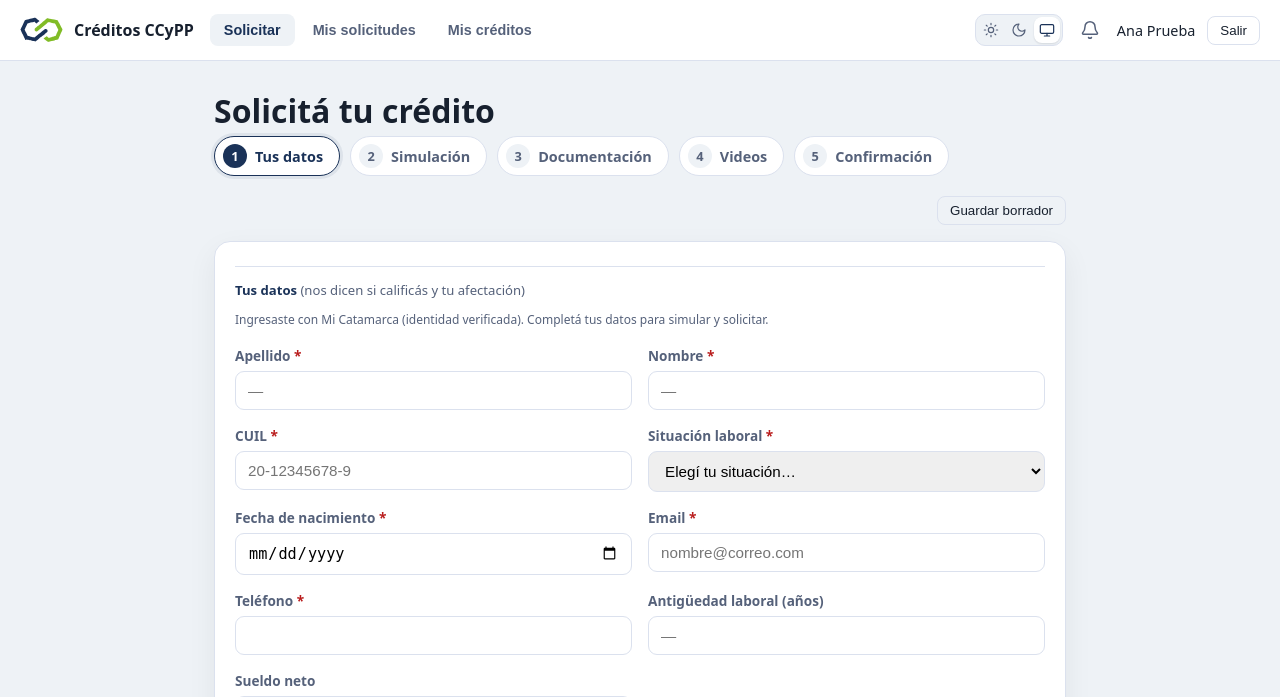
Test: paso 1 · tus datos › el CUIL descarta lo que no sean dígitos y se muestra con guiones
Check: the heading "Solicitá tu crédito" is shown, box [214, 89, 495, 132]
Type "20.30123456.3" into the field labelled "CUIL *" at (434, 470), box [235, 451, 632, 490]
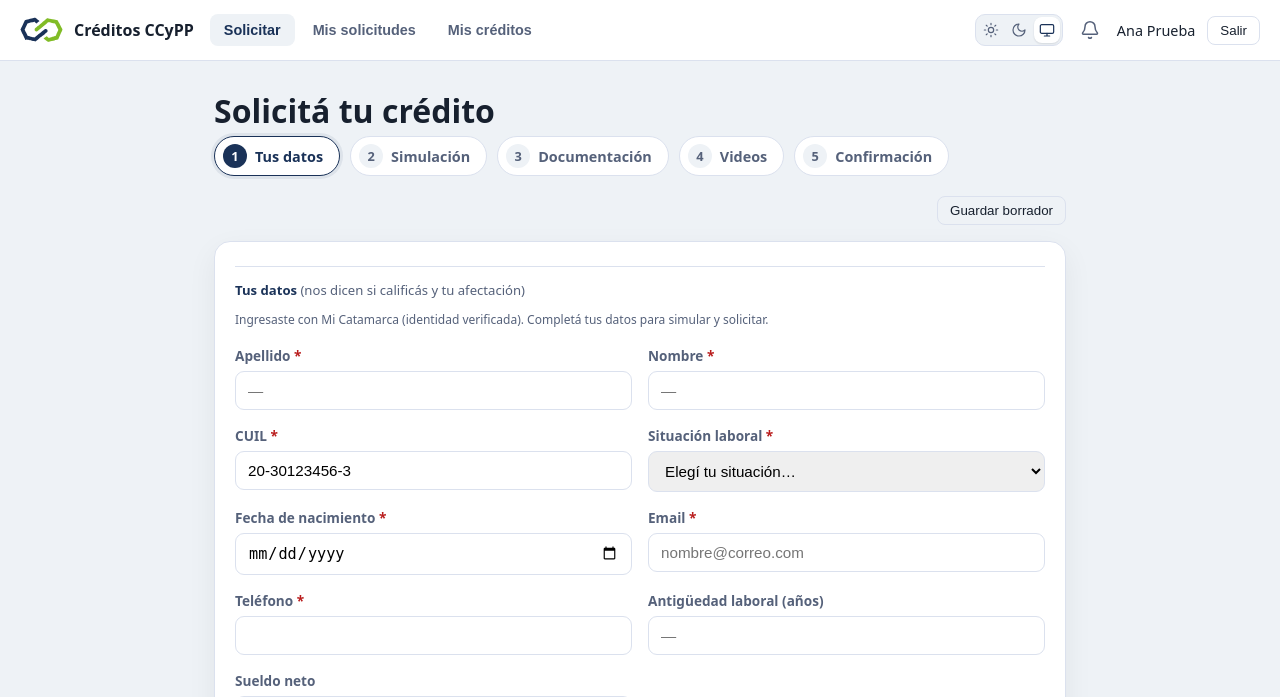
Check: the field labelled "CUIL *" holds "20-30123456-3", box [235, 451, 632, 490]
